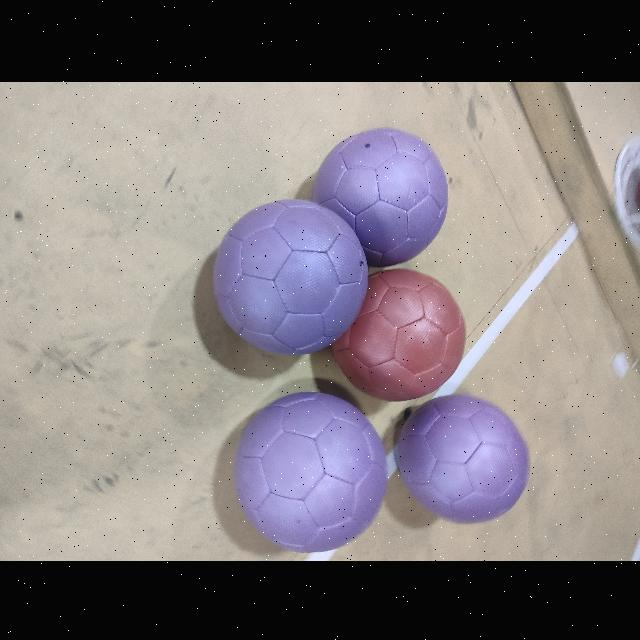P: (235, 391, 387, 551), (214, 198, 366, 354), (315, 130, 449, 268), (397, 393, 529, 522)
R: (332, 267, 466, 399), (636, 152, 640, 225)
